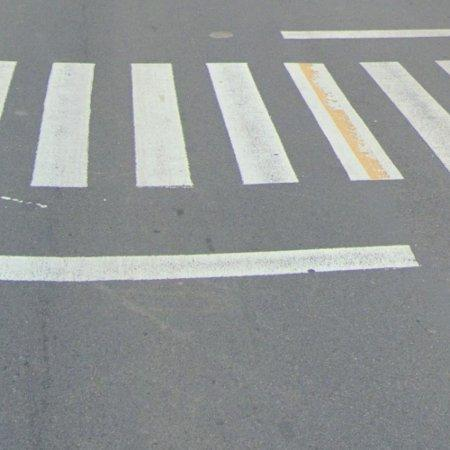crosswalks: (0, 60, 450, 189)
